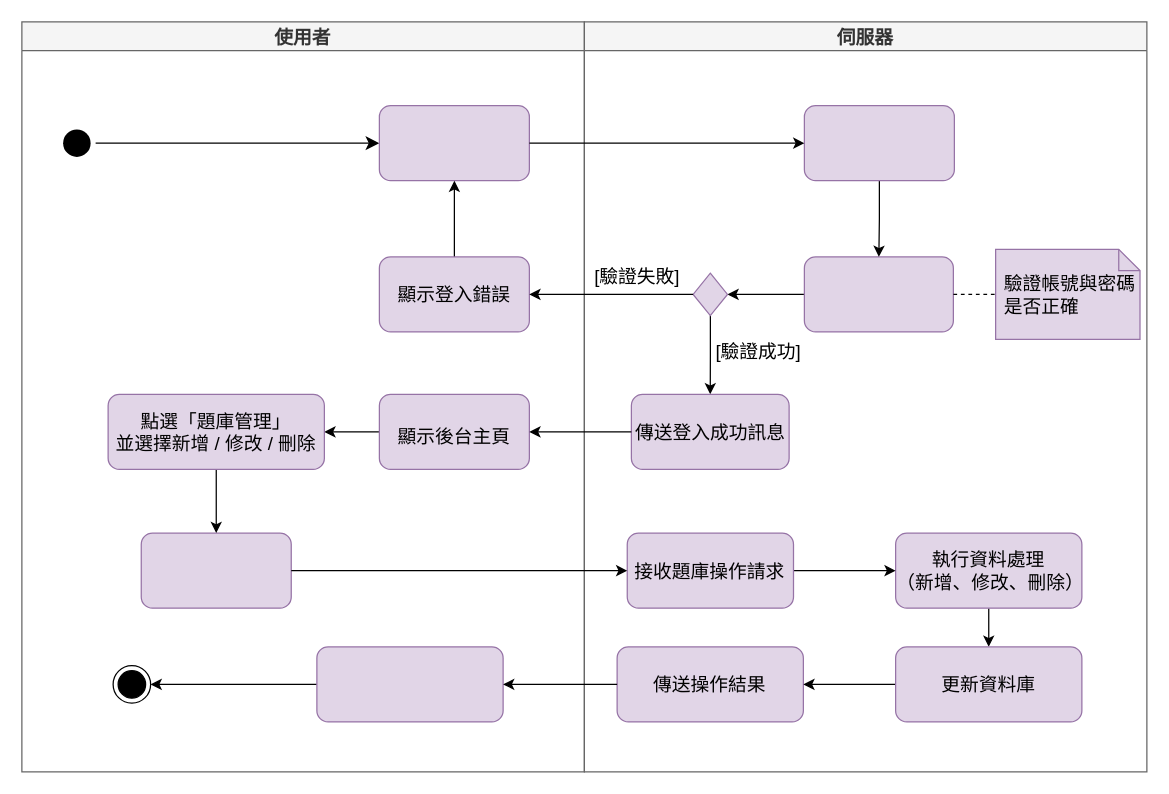
Image size: 1169x794. Some labels were removed from this diagram. Each missing label, with the centre of its shape:
接收登入資料（帳號、密碼）: point 878,142
管理員登入系統: point 453,142
顯示已更新訊息: point 409,684
驗證資料: point 878,294
點選「送出」 進行操作: point 215,570
